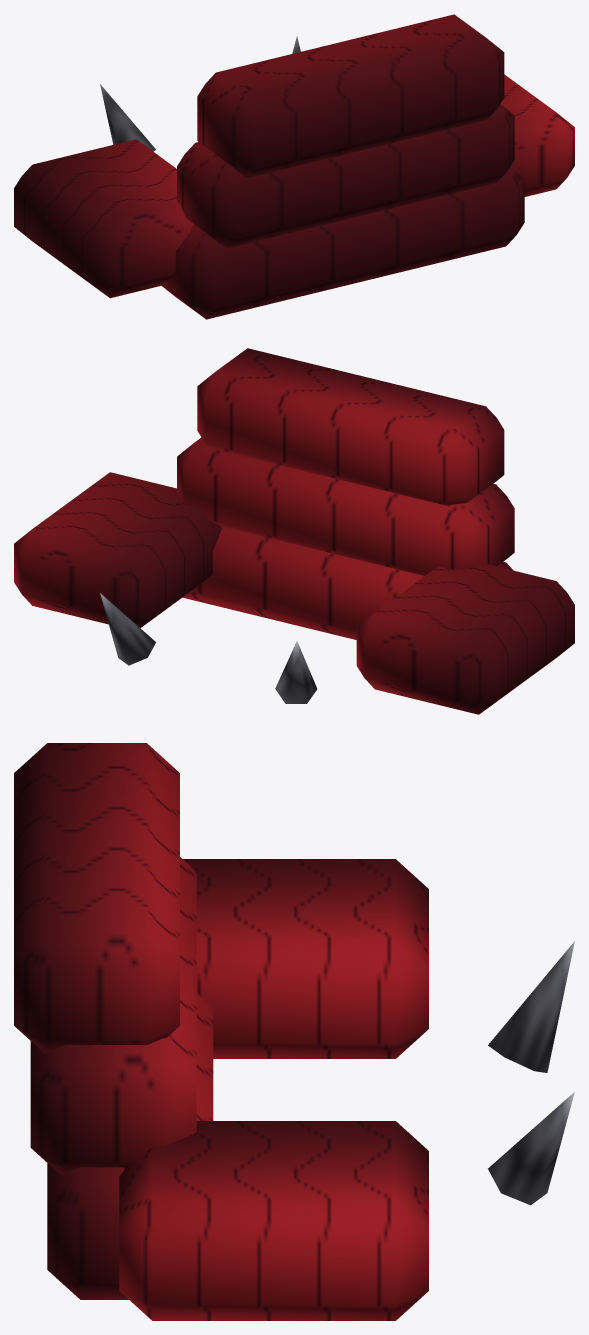
The model's file is parasite_brute_brute.obj.
The picture shows the model from 3 angles, top to bottom: view 1: azimuth 30°, elevation 25°; view 2: azimuth 150°, elevation 25°; view 3: azimuth 270°, elevation 25°; orthographic projection. The views are drawn at different scales.
Visible parts, largest first — view 1: brute_brute; view 2: brute_brute; view 3: brute_brute.
Boxes of the visible parts, left/top/right/bottom form: brute_brute: left=14, top=14, right=574, bottom=319; brute_brute: left=14, top=348, right=574, bottom=714; brute_brute: left=14, top=743, right=574, bottom=1320.
Bounding box in the file's own units: 0.9876 × 0.4374 × 0.6336.
